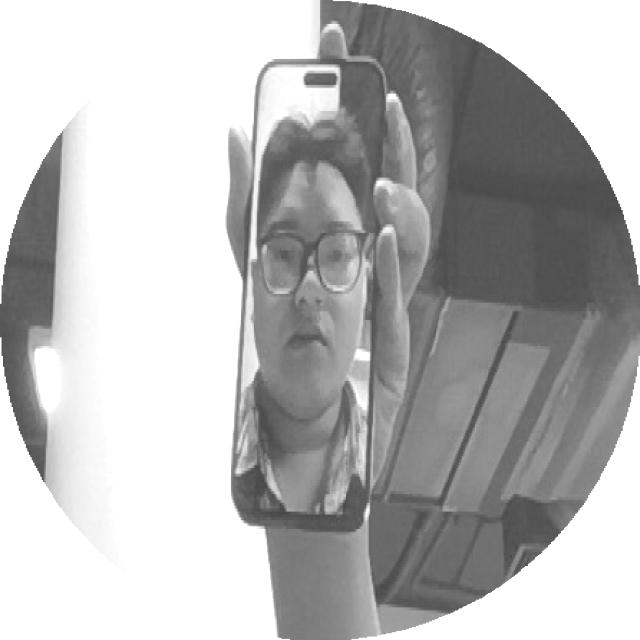fake: (219, 34, 430, 571), (214, 47, 413, 539)
